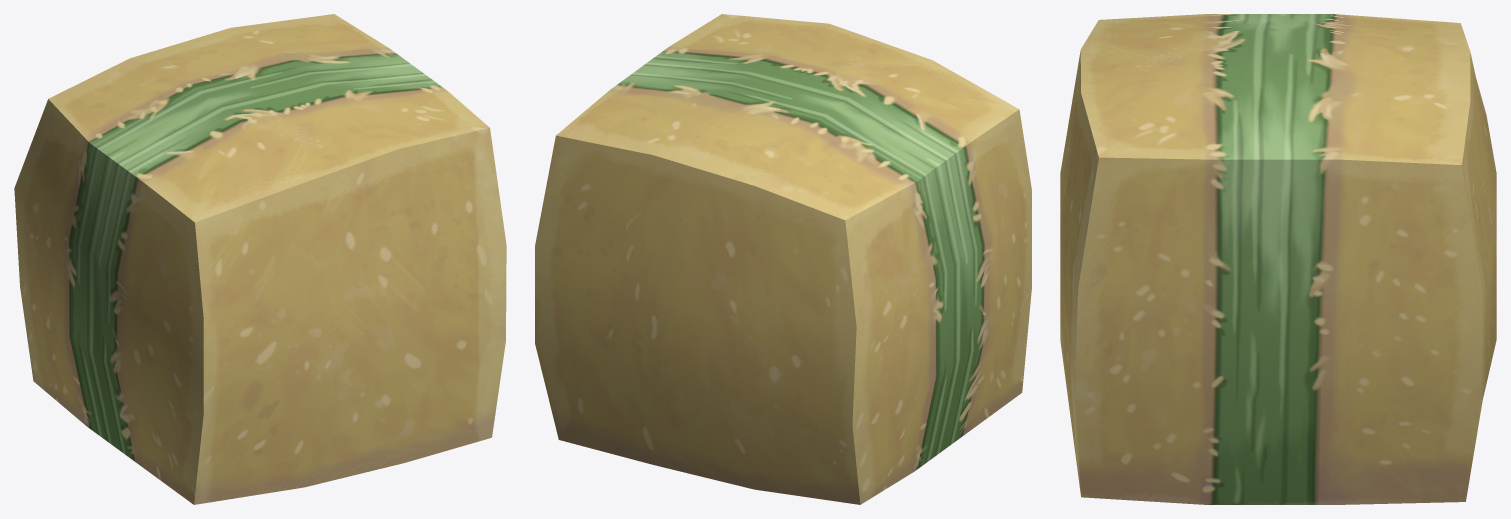
Rendered from Haybox-01.fbx.
3 views of the same model, side by side, from view 1: azimuth 30°, elevation 25°; view 2: azimuth 150°, elevation 25°; view 3: azimuth 270°, elevation 25° (orthographic). The views are drawn at different scales.
Parts seen in each view (by area): view 1: Haybox_01:Haybox_01; view 2: Haybox_01:Haybox_01; view 3: Haybox_01:Haybox_01.
Part boxes in pixels (left/top/right/bottom): Haybox_01:Haybox_01: left=14, top=14, right=506, bottom=504; Haybox_01:Haybox_01: left=535, top=14, right=1031, bottom=504; Haybox_01:Haybox_01: left=1060, top=14, right=1496, bottom=504.
Size of the model in its own units: 188 by 172 by 188.
1 material, 1 textured.
